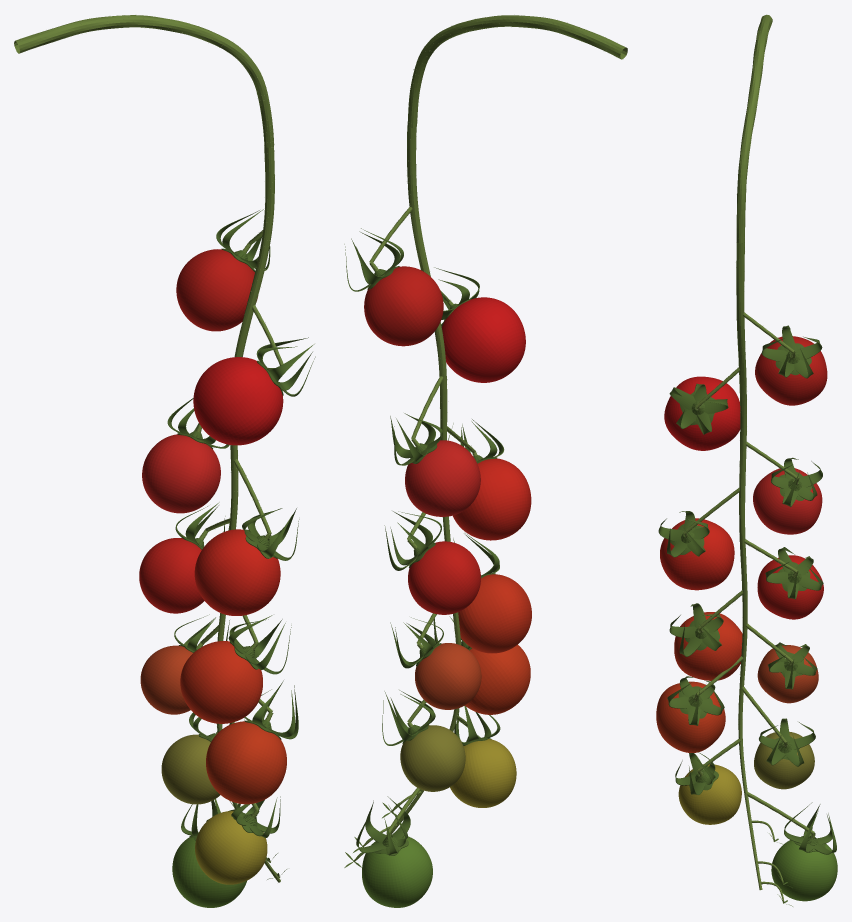
Rendered from tomato_master_v10_cluster_rotated90.glb.
3 renders of one model, left to right at view 1: azimuth 30°, elevation 25°; view 2: azimuth 150°, elevation 25°; view 3: azimuth 270°, elevation 25°, orthographic. The views are drawn at different scales.
Visible parts, largest first — view 1: Fruit_02, Fruit_04, Fruit_08, Fruit_06, Fruit_01, Fruit_03, Truss_01_Peduncle, Fruit_10, Fruit_05, Rachis, Fruit_09, Fruit_07 (+1 smaller); view 2: Fruit_02, Fruit_01, Fruit_03, Fruit_06, Fruit_04, Fruit_05, Fruit_11, Fruit_07, Truss_01_Peduncle, Fruit_09, Fruit_10, Fruit_08 (+1 smaller); view 3: Rachis, Fruit_04, Fruit_02, Fruit_11, Fruit_08, Fruit_03, Fruit_01, Fruit_06, Fruit_10, Truss_01_Peduncle, Fruit_05, Fruit_09 (+1 smaller).
Boxes of the visible parts, bbox=[...] form: Fruit_02: bbox=[193, 357, 283, 445]; Fruit_04: bbox=[194, 529, 280, 615]; Fruit_08: bbox=[206, 721, 286, 804]; Fruit_06: bbox=[180, 641, 262, 723]; Fruit_01: bbox=[176, 249, 257, 331]; Fruit_03: bbox=[142, 434, 220, 513]; Truss_01_Peduncle: bbox=[14, 15, 274, 147]; Fruit_10: bbox=[195, 811, 267, 884]; Fruit_05: bbox=[139, 538, 204, 613]; Rachis: bbox=[217, 146, 280, 882]; Fruit_09: bbox=[161, 734, 219, 804]; Fruit_07: bbox=[140, 645, 192, 714]; Fruit_02: bbox=[442, 297, 525, 382]; Fruit_01: bbox=[364, 266, 443, 346]; Fruit_03: bbox=[405, 440, 480, 516]; Fruit_06: bbox=[453, 574, 531, 653]; Fruit_04: bbox=[453, 458, 531, 540]; Fruit_05: bbox=[408, 541, 480, 614]; Fruit_11: bbox=[362, 836, 432, 907]; Fruit_07: bbox=[415, 643, 481, 709]; Truss_01_Peduncle: bbox=[407, 15, 627, 127]; Fruit_09: bbox=[400, 725, 465, 791]; Fruit_10: bbox=[450, 739, 516, 807]; Fruit_08: bbox=[465, 644, 530, 714]; Rachis: bbox=[736, 242, 762, 890]; Fruit_04: bbox=[660, 518, 734, 590]; Fruit_02: bbox=[664, 376, 740, 450]; Fruit_11: bbox=[771, 840, 837, 901]; Fruit_08: bbox=[656, 681, 725, 752]; Fruit_03: bbox=[753, 468, 822, 534]; Fruit_01: bbox=[755, 336, 827, 405]; Fruit_06: bbox=[674, 612, 742, 680]; Fruit_10: bbox=[678, 764, 741, 824]; Truss_01_Peduncle: bbox=[736, 14, 772, 243]; Fruit_05: bbox=[757, 555, 823, 619]; Fruit_09: bbox=[754, 731, 814, 789].
Size of the model in its own units: 0.1925 by 0.6109 by 0.1254.
